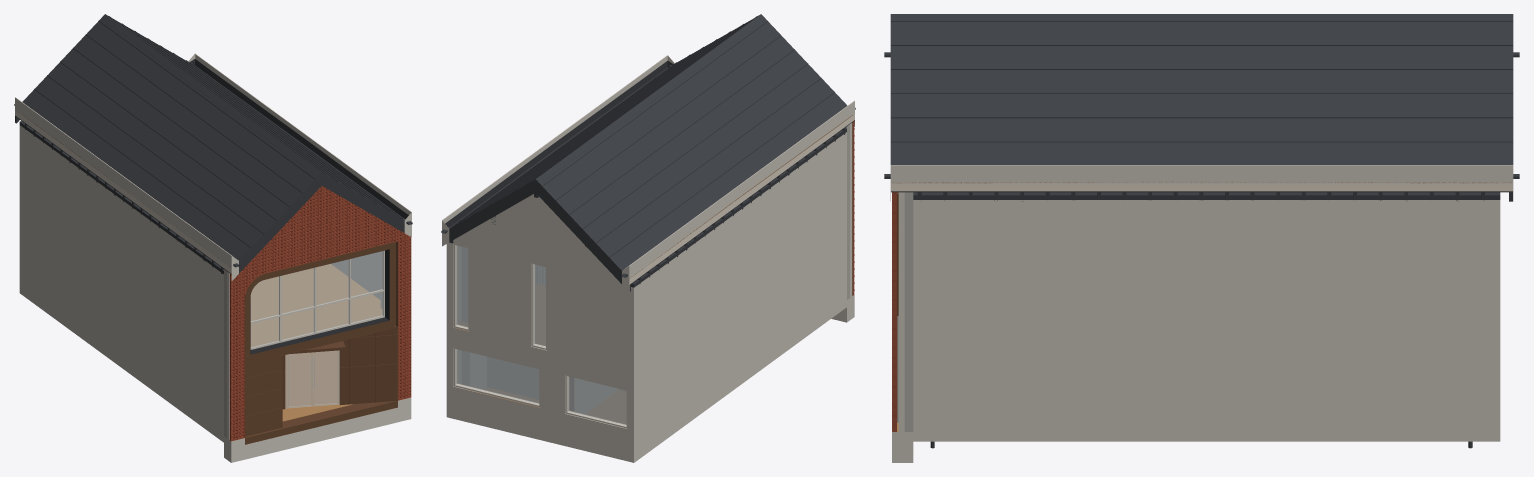
The picture shows the model from 3 angles, left to right: view 1: azimuth 30°, elevation 25°; view 2: azimuth 150°, elevation 25°; view 3: azimuth 270°, elevation 25°; orthographic projection. The views are drawn at different scales.
Visible parts, largest first — view 1: building_0, building_5, building_2, building_8, building_4, building_1, building_9, building_7, building_11, building_10; view 2: building_0, building_5, building_4, building_1, building_7, building_10, building_9; view 3: building_0, building_5, building_7, building_10, building_9.
Boxes of the visible parts, box(x1,y1,x2,y2) form: building_0: box(15, 53, 411, 462); building_5: box(14, 14, 412, 274); building_2: box(245, 241, 398, 444); building_8: box(229, 186, 411, 440); building_4: box(250, 251, 383, 408); building_1: box(229, 264, 409, 440); building_9: box(229, 186, 410, 441); building_7: box(15, 110, 231, 273); building_11: box(250, 249, 389, 354); building_10: box(224, 269, 226, 437); building_0: box(442, 55, 854, 462); building_5: box(441, 14, 855, 291); building_4: box(457, 245, 626, 424); building_1: box(453, 284, 625, 428); building_7: box(629, 114, 854, 284); building_10: box(845, 124, 849, 299); building_9: box(852, 121, 854, 295); building_0: box(890, 165, 1513, 462); building_5: box(884, 14, 1519, 448); building_7: box(891, 182, 1512, 191); building_10: box(897, 192, 913, 431); building_9: box(892, 192, 896, 431).
Size of the model in its own units: 7 by 9.98 by 14.88.
